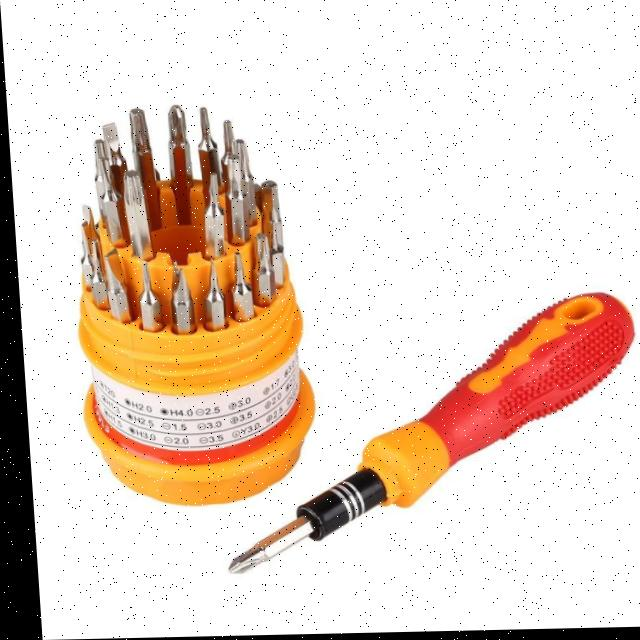Screwdriver: (221, 296, 629, 573)
